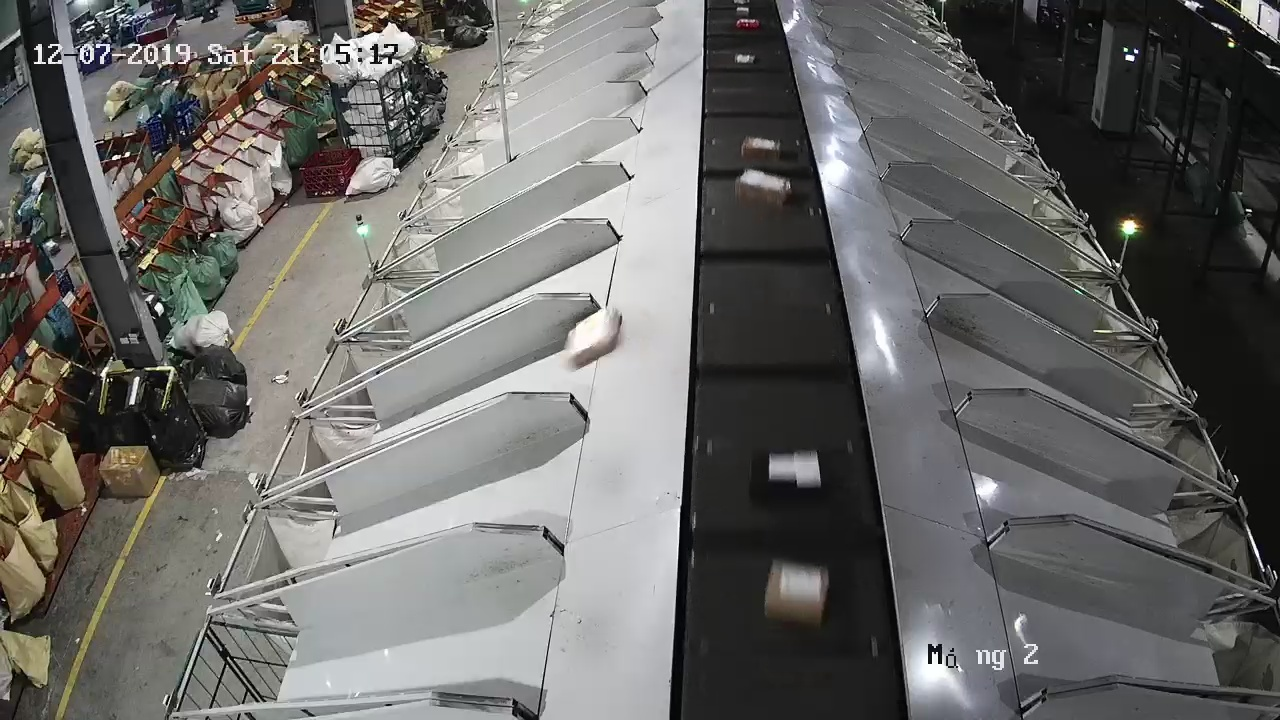parcel: (560, 306, 623, 371)
